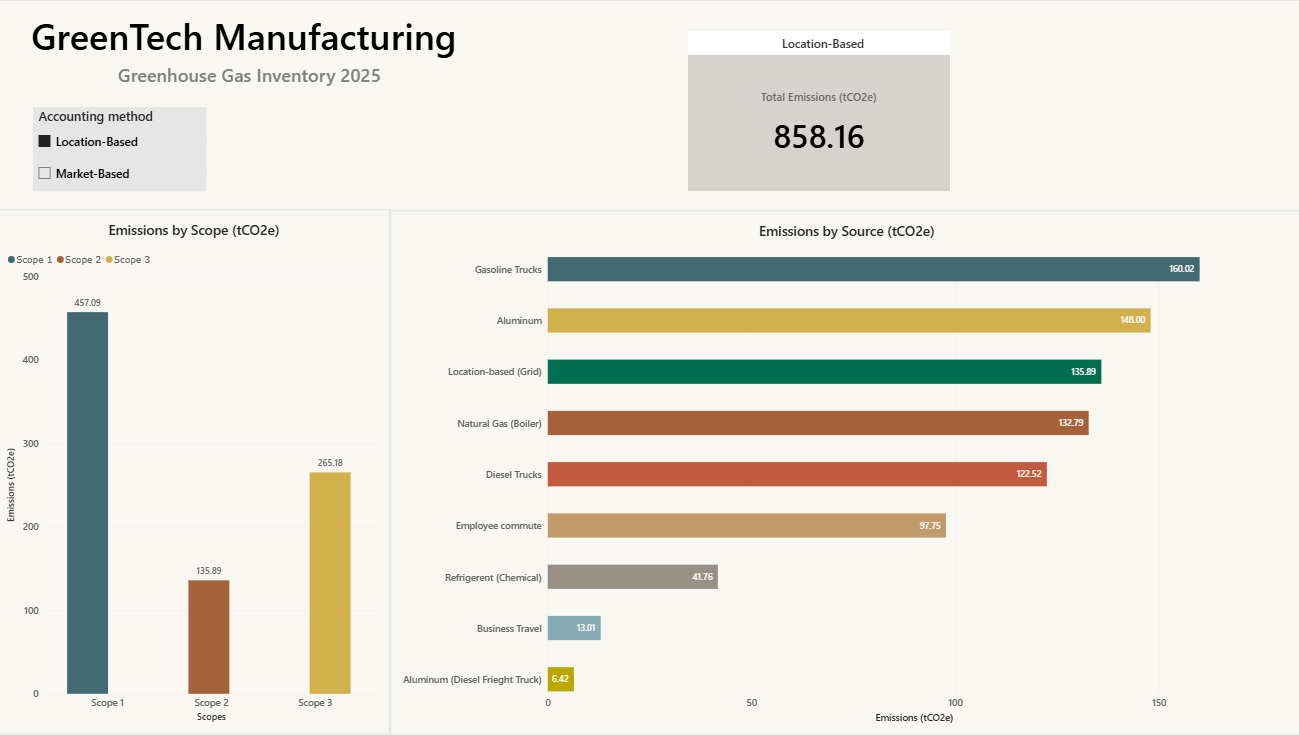

The page's visual inventory and layout, read from the dashboard file:
{"tool":"powerbi","page":{"name":"Page 1","canvas":[1920,1080],"ordinal":0},"visuals":[{"type":"cardVisual","fields":{"Data":["Sum(GHG_PBI_data.Emissions (tCO2e))"],"Rows":["GHG_PBI_data.Accounting method"]},"box":[1459,43.8,385.1,235.8],"z":1},{"type":"cardVisual","fields":{"Data":["Sum(GHG_PBI_data.Emissions (tCO2e))"],"Rows":["GHG_PBI_data.Accounting method"]},"box":[1019.1,44.1,385.3,235.3],"z":2},{"type":"clusteredColumnChart","title":"Emissions by Scope (tCO2e)","fields":{"Category":["GHG_PBI_data.Scope "],"Series":["GHG_PBI_data.Scope "],"Y":["Sum(GHG_PBI_data.Emissions (tCO2e))"]},"box":[0,306.4,580.7,773.3],"z":3},{"type":"barChart","title":"Emissions by Source (tCO2e)","fields":{"Category":["GHG_PBI_data.Emission Source "],"Series":["GHG_PBI_data.Emission Source "],"Y":["Sum(GHG_PBI_data.Emissions (tCO2e))"]},"box":[580.7,307.8,1339.3,773.3],"z":4},{"type":"slicer","fields":{"Values":["GHG_PBI_data.Accounting method"]},"box":[55.9,155.9,255.3,124],"z":5},{"type":"textbox","box":[17.9,14.9,697,74.6],"z":6},{"type":"textbox","box":[34.3,89.6,680.6,53.7],"z":7}]}

Visuals, with their boxes in screenshot pixels (x1, y1, x2, y2), scaled from the page's 1920x1080 canvas onto the 1299x735 screenshot:
cardVisual - Sum(GHG_PBI_data.Emissions (tCO2e)) x GHG_PBI_data.Accounting method: locate(987, 30, 1248, 190)
cardVisual - Sum(GHG_PBI_data.Emissions (tCO2e)) x GHG_PBI_data.Accounting method: locate(689, 30, 950, 190)
"Emissions by Scope (tCO2e)" clusteredColumnChart: locate(0, 209, 393, 734)
"Emissions by Source (tCO2e)" barChart: locate(393, 209, 1298, 734)
slicer - GHG_PBI_data.Accounting method: locate(38, 106, 211, 190)
textbox: locate(12, 10, 484, 61)
textbox: locate(23, 61, 484, 98)
